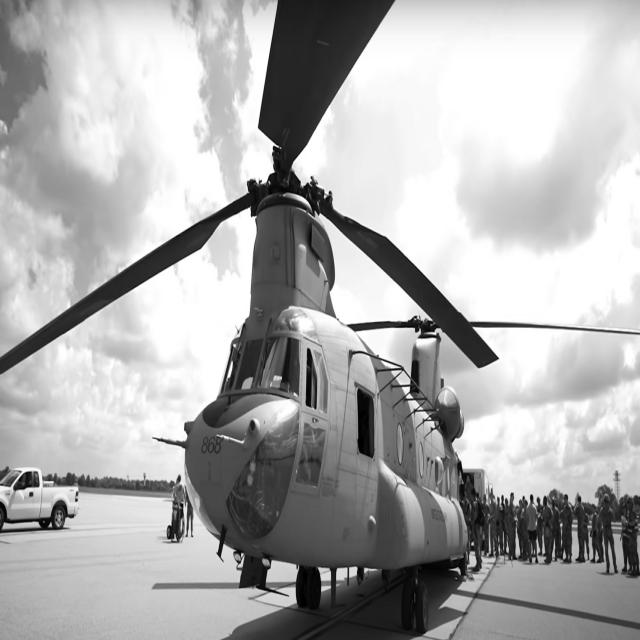Car: (0, 466, 79, 531)
Helicopter: (187, 143, 491, 611)
